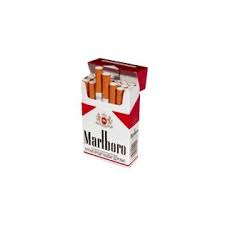marlboro: (84, 88, 128, 166)
